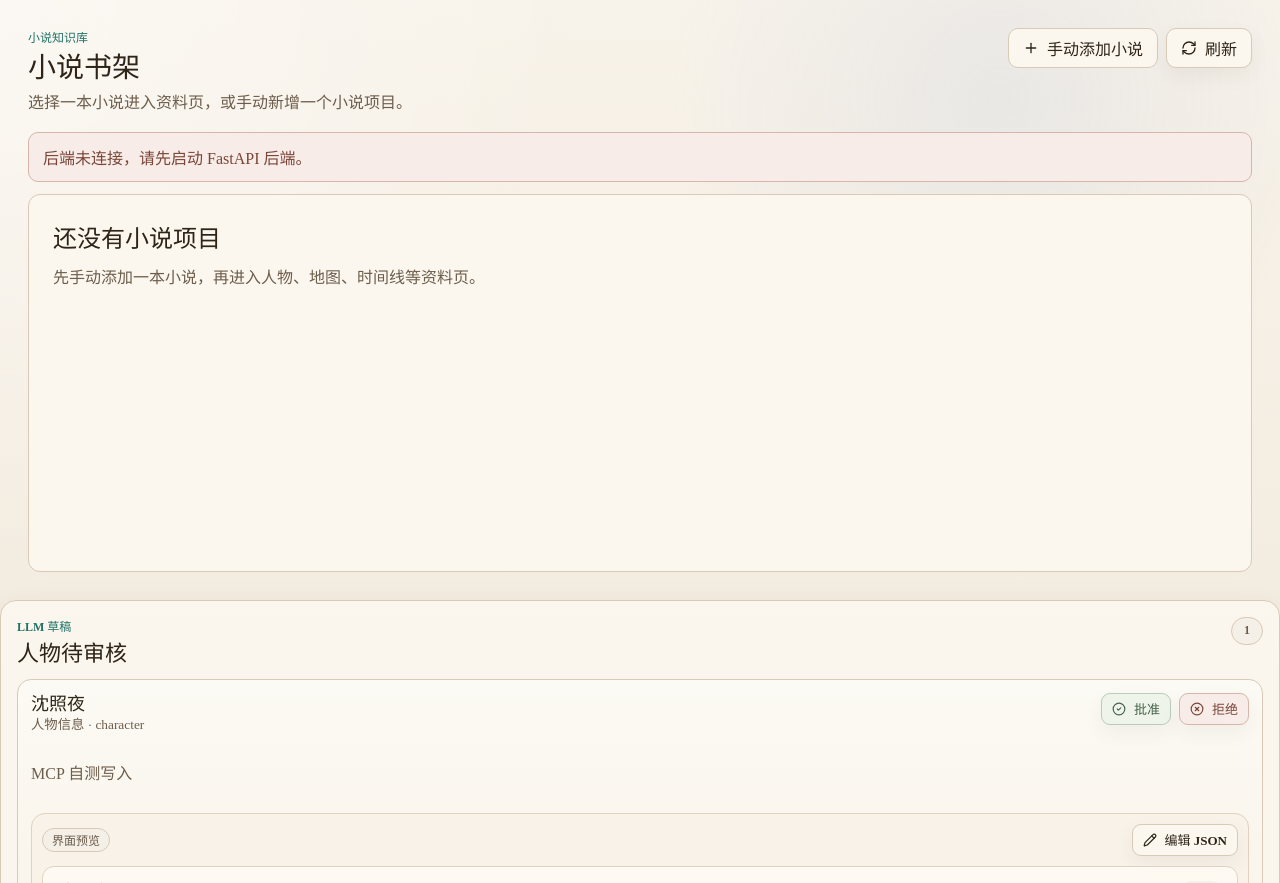
Test: PendingPreviewPanel › shows rendered preview first and keeps JSON collapsed until editing
Expected: the text "界面预览" is shown, [42,828,110,852]
Expected: the 1st text "沈照夜" is shown, [31,694,85,714]
Click the button "编辑 JSON" at (1185, 840), box [1132,824,1238,856]
(page scrolled)
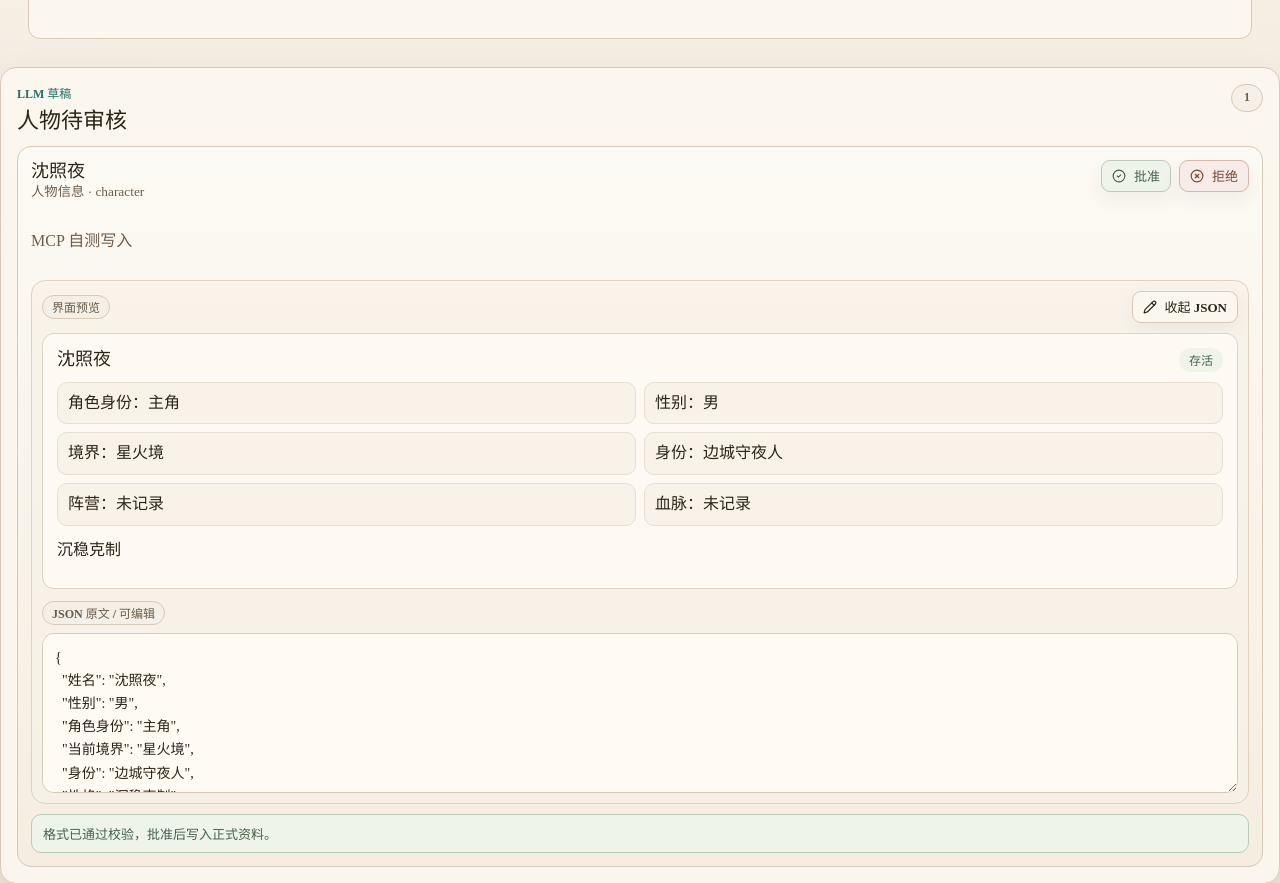
Now the text "JSON 原文 / 可编辑" is shown, box [42,601,165,625]
Now the text box showing "沈照夜" is shown, box [42,633,1238,793]
